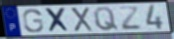4: (145, 4, 166, 31)
G: (22, 8, 45, 33)
Q: (92, 6, 120, 32)
X: (43, 7, 72, 34), (69, 7, 95, 33)
Z: (117, 6, 143, 31)
